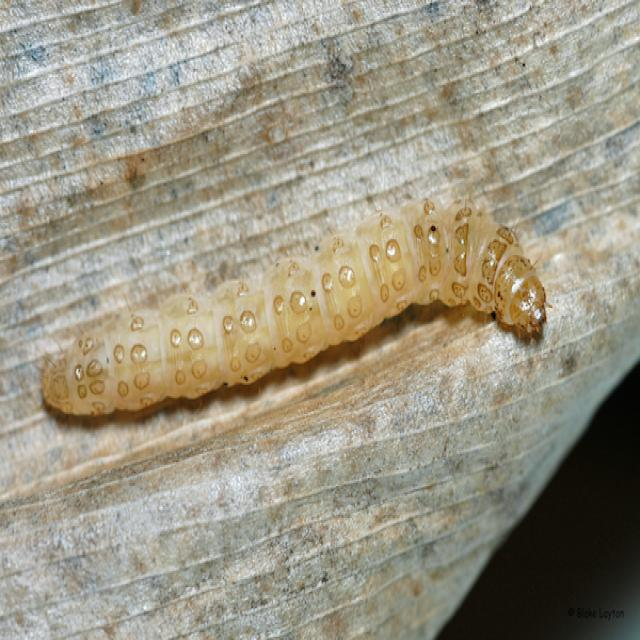cornborer-Larva-: (37, 185, 566, 426)
